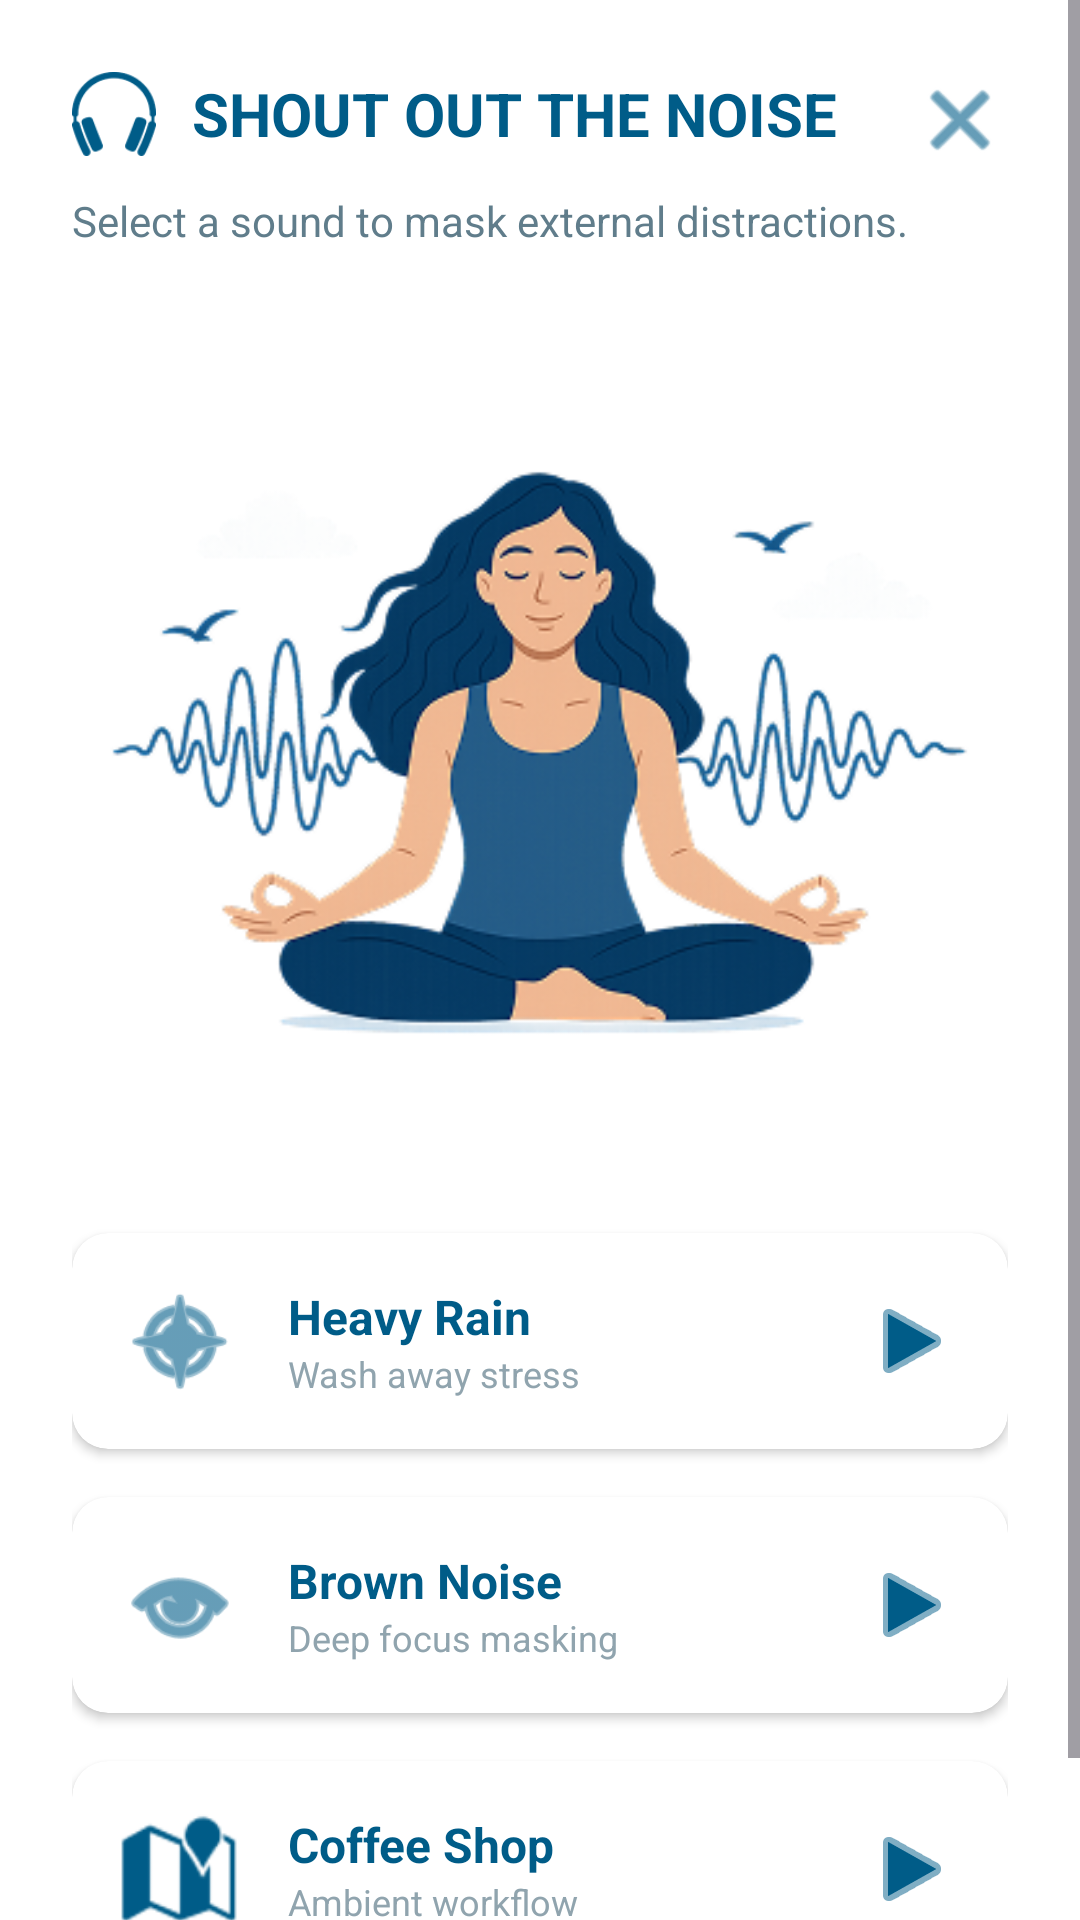

Named icons in this screenshot (1080x1920) and their centers, (x,y):
compass: (179,1341)
Ikon Headphone: (114,114)
Keluar: (960,120)
map: (179,1868)
play: (912,1341), (912,1605), (912,1869)
view: (180,1608)
